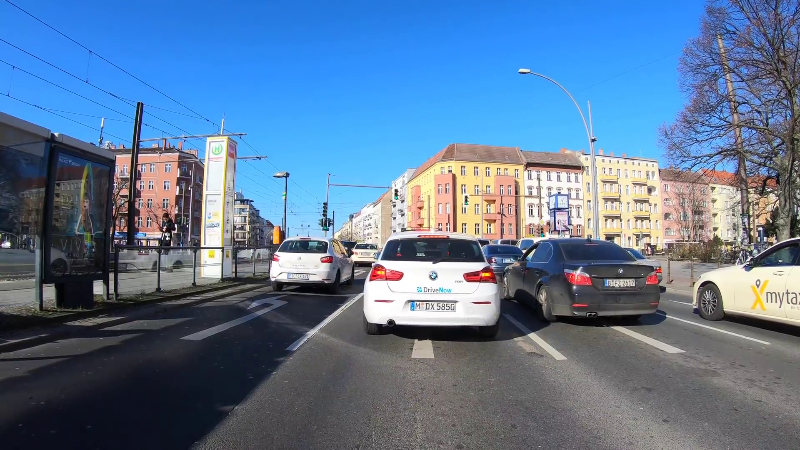Plate: (409, 299, 457, 312), (601, 277, 637, 287), (286, 272, 309, 279), (358, 251, 372, 257), (501, 258, 515, 263)
